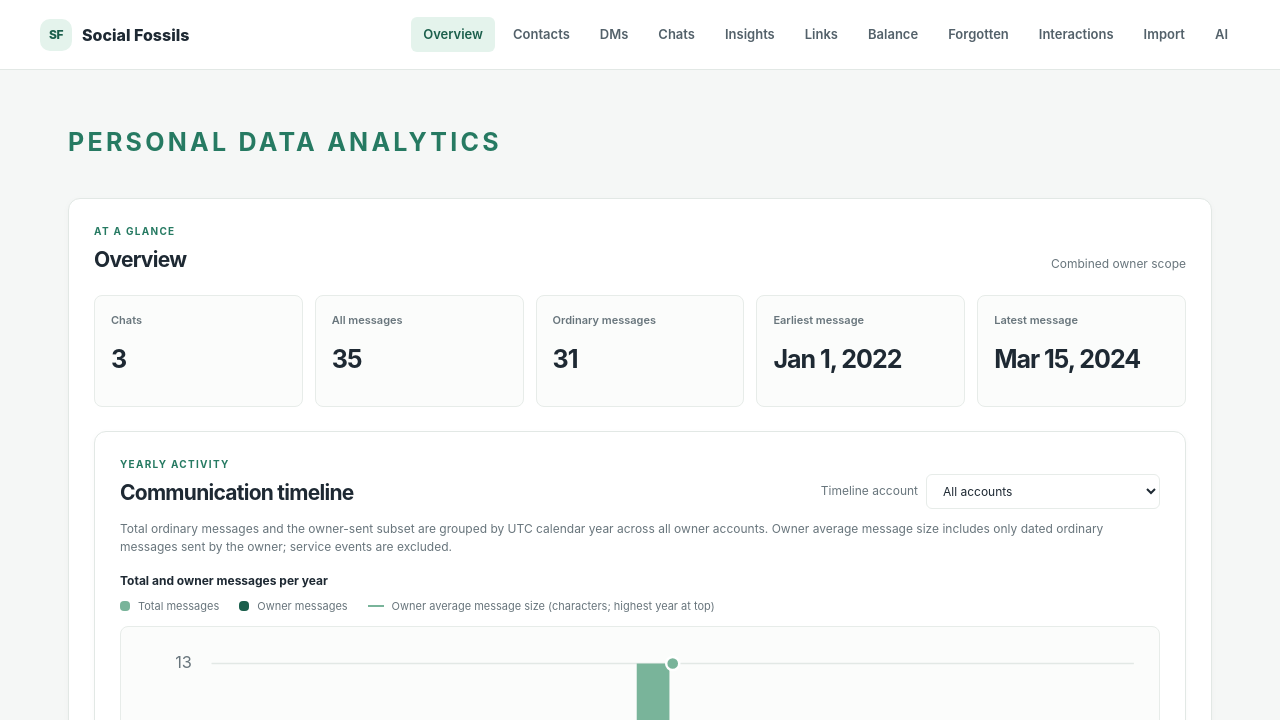
dashboard › supports keyboard tab navigation and keeps inactive sections hidden
The width and height of the screenshot is (1280, 720).
Later steps or results of the test are not shown.
Expected: the heading "All messages" is shown, [332,313,403,327]
Click the tab "Overview": click(453, 35) [411,17,495,52]
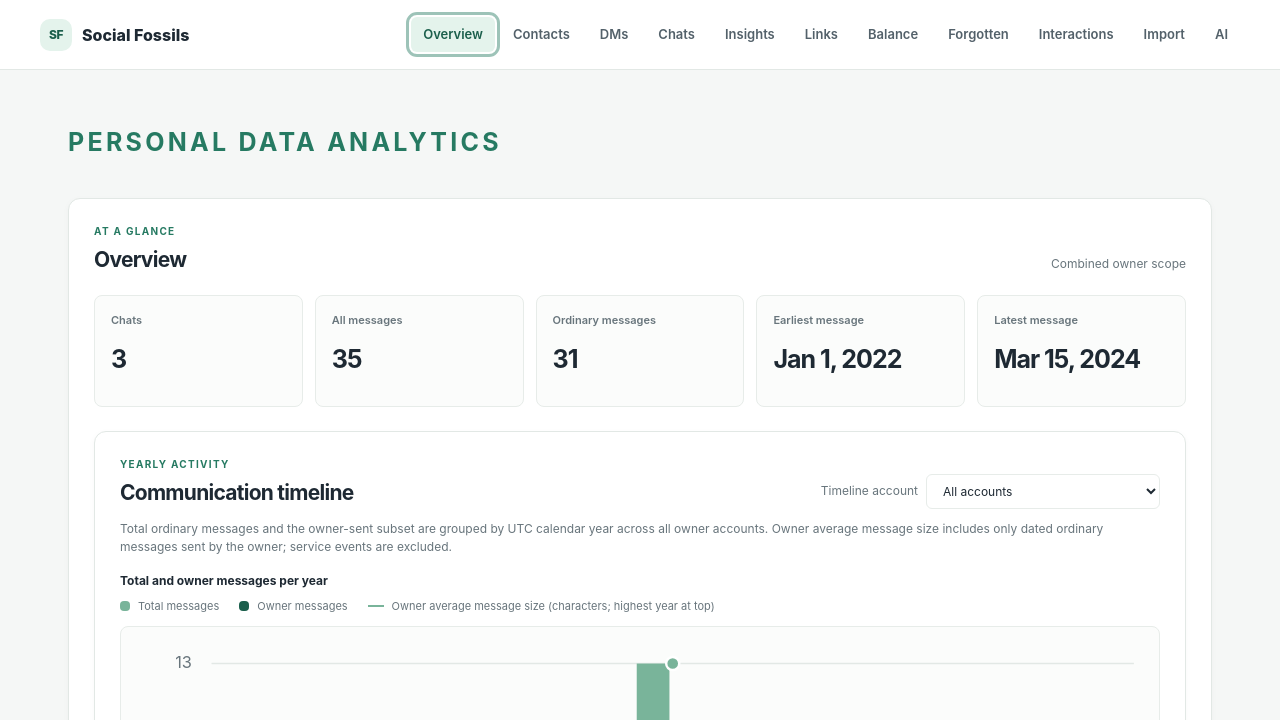
Press Arrowright
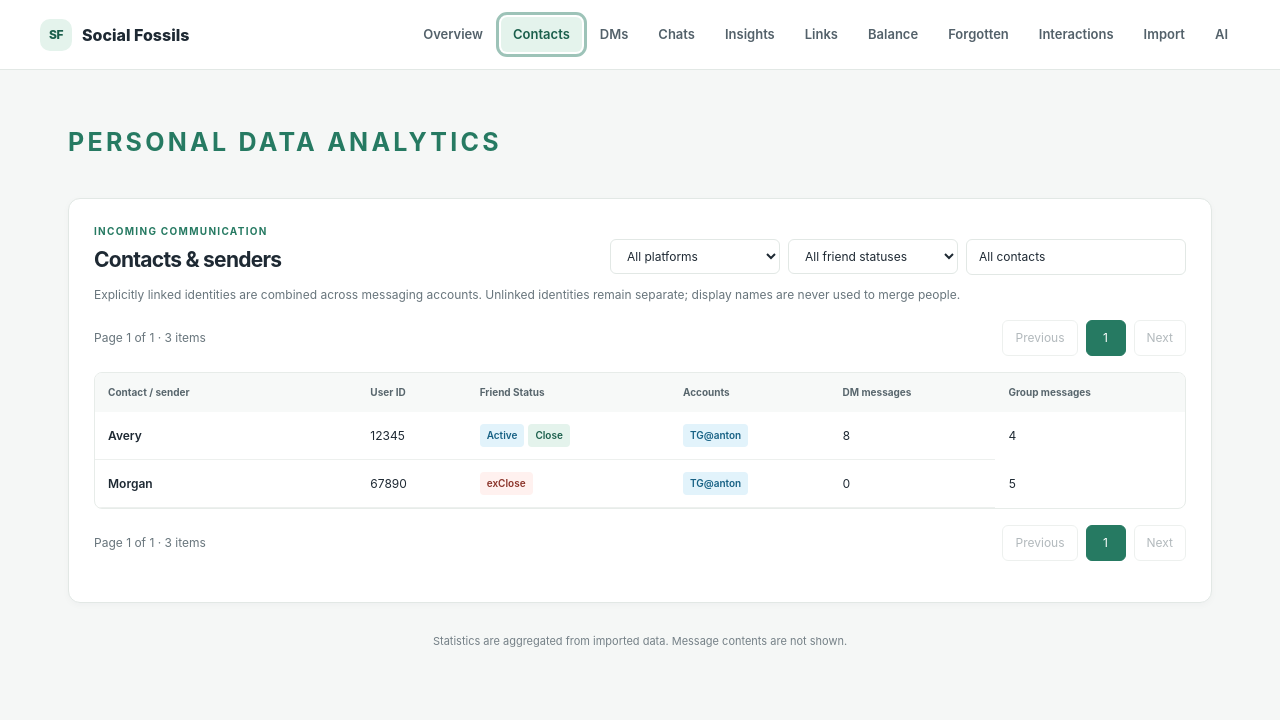
Result: the tab "Contacts" is selected at [501,17,582,52]
Press Arrowright
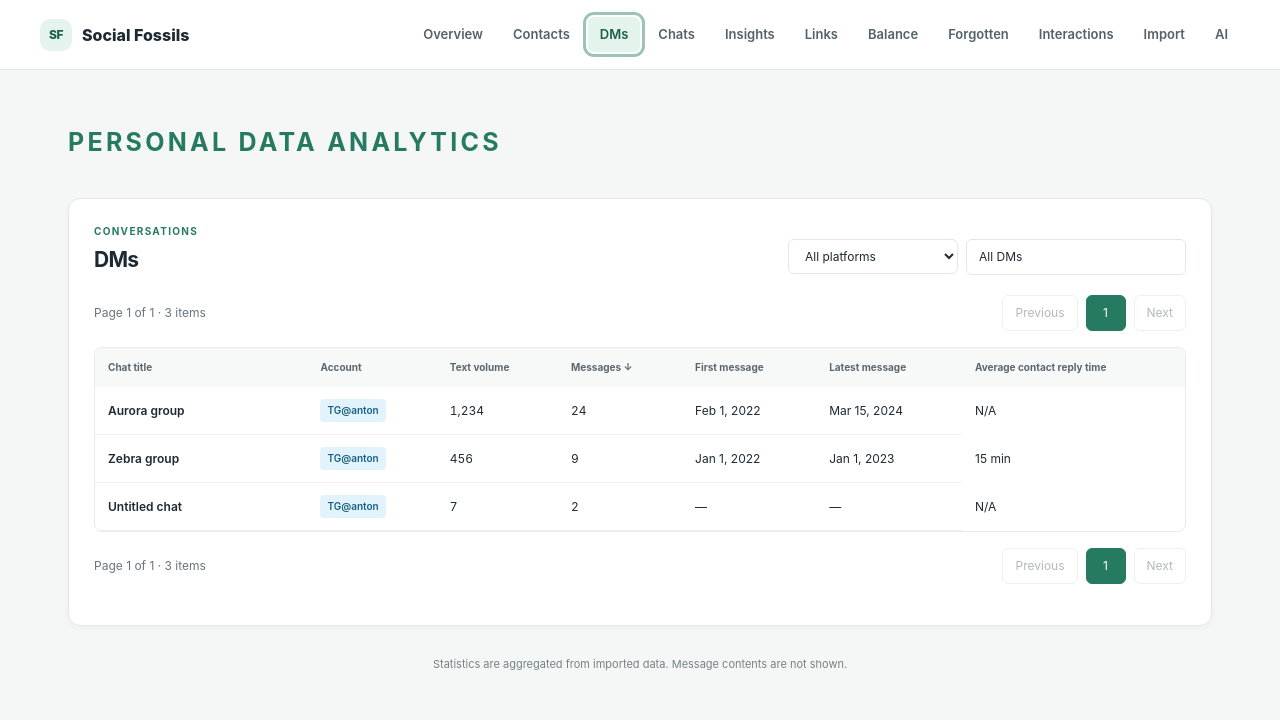
Result: the tab "DMs" is selected at [588,17,640,52]
Press Arrowright
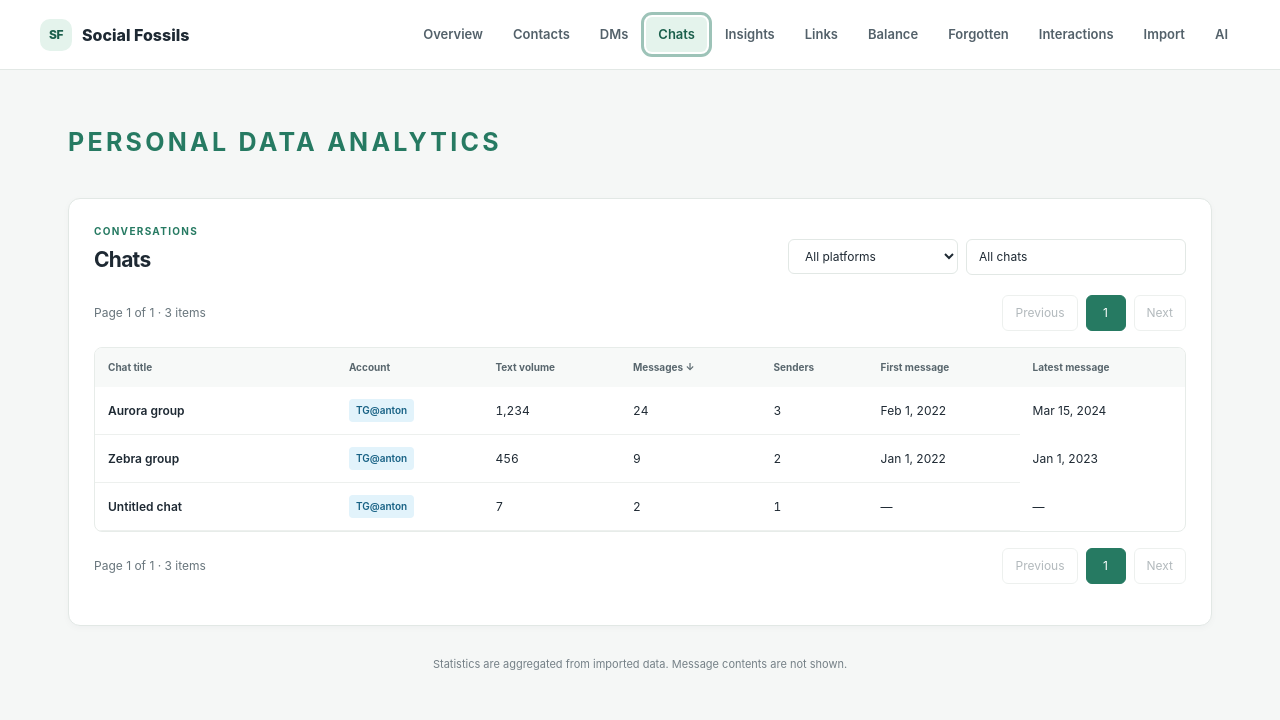
Result: the tab "Chats" is selected at [646,17,707,52]
